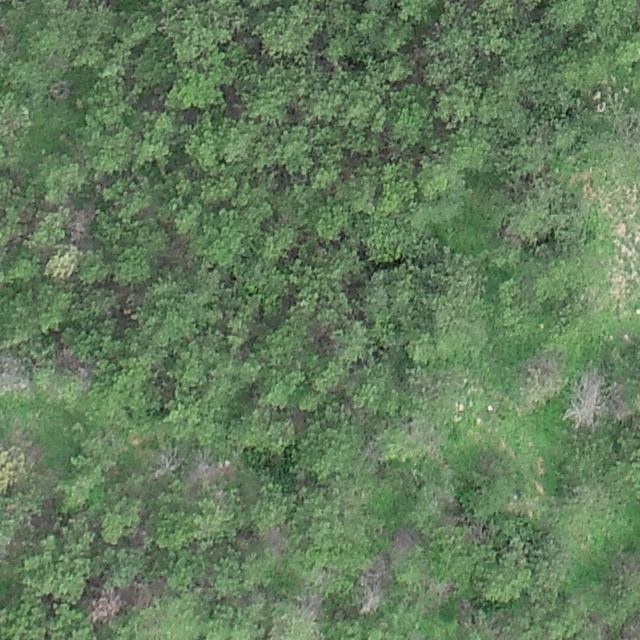unhealthy: (564, 371, 608, 428), (520, 351, 563, 403), (355, 555, 389, 616), (185, 454, 230, 489), (53, 345, 93, 382), (86, 587, 125, 624), (67, 203, 97, 244), (0, 351, 28, 393), (130, 577, 165, 607), (607, 381, 632, 422), (157, 236, 190, 267), (147, 448, 180, 479), (296, 591, 327, 620), (259, 525, 289, 553), (425, 576, 455, 603), (391, 526, 420, 553), (48, 74, 75, 101), (618, 612, 640, 639)
